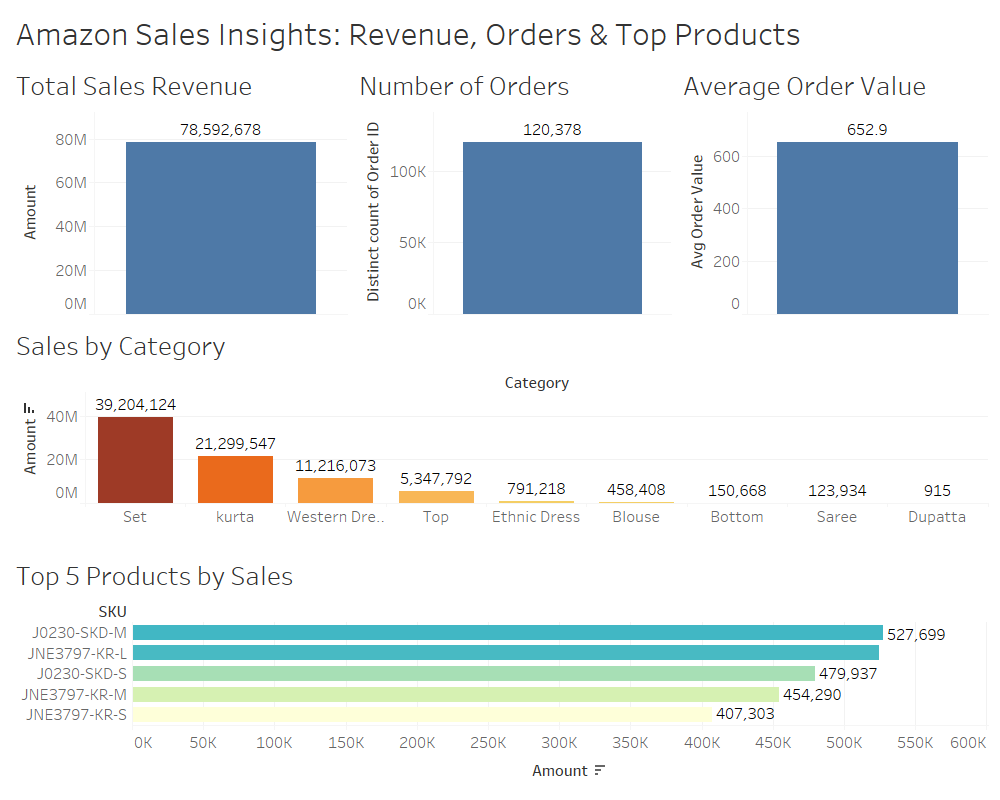

This screenshot's page, from the dashboard's own definition file:
{"tool":"tableau","page":{"name":"Amazon Sales Insights: Revenue, Orders & Top Products","canvas":[1000,800],"ordinal":0},"visuals":[{"type":"title","box":[8,8,984,50]},{"type":"worksheet","title":"Total Sales Revenue","mark":"Automatic","rows":["Amount"],"box":[8,58,343,260.3]},{"type":"worksheet","title":"Number of Orders","mark":"Automatic","rows":["Order ID"],"box":[351,58,324,260.3]},{"type":"worksheet","title":"Average Order Value","mark":"Automatic","rows":["Calculation_1098878317588152320"],"box":[675,58,317,260.3]},{"type":"worksheet","title":"Sales by Category","mark":"Bar","rows":["Amount"],"cols":["Category"],"box":[8,318.3,984,229.4]},{"type":"worksheet","title":"Top 5 Products by Sales","mark":"Bar","rows":["SKU"],"cols":["Amount"],"box":[8,547.6,984,244.4]}]}

Visuals, with their boxes in screenshot pixels (x1, y1, x2, y2), scaled from the page's 1000x800 canvas onto the 1000x800 screenshot:
title: {"x1": 8, "y1": 8, "x2": 992, "y2": 58}
"Total Sales Revenue" worksheet: {"x1": 8, "y1": 58, "x2": 351, "y2": 318}
"Number of Orders" worksheet: {"x1": 351, "y1": 58, "x2": 675, "y2": 318}
"Average Order Value" worksheet: {"x1": 675, "y1": 58, "x2": 992, "y2": 318}
"Sales by Category" worksheet (Bar marks): {"x1": 8, "y1": 318, "x2": 992, "y2": 548}
"Top 5 Products by Sales" worksheet (Bar marks): {"x1": 8, "y1": 548, "x2": 992, "y2": 792}
